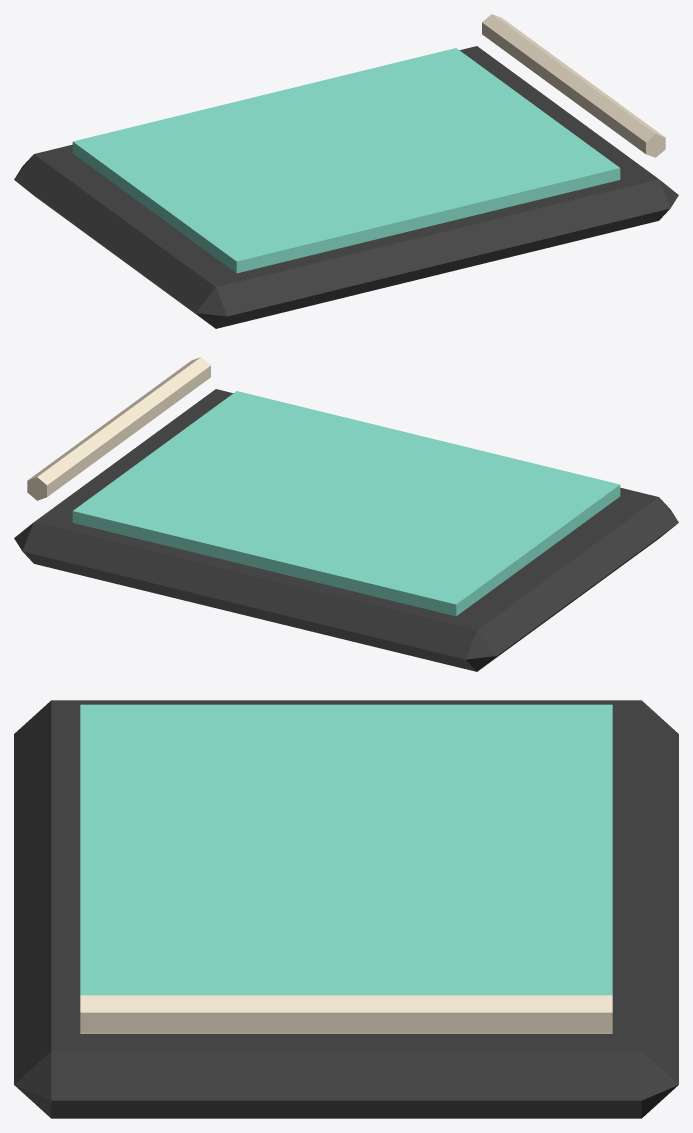
3 renders of one model, top to bottom at view 1: azimuth 30°, elevation 25°; view 2: azimuth 150°, elevation 25°; view 3: azimuth 270°, elevation 25°, orthographic. The views are drawn at different scales.
Parts seen in each view (by area): view 1: Drawing area, Tablet, Pen; view 2: Drawing area, Tablet, Pen; view 3: Drawing area, Tablet, Pen.
Part boxes in pixels (x1,y1,x2,y2): Drawing area: (72, 48, 620, 273); Tablet: (14, 46, 678, 328); Pen: (482, 14, 665, 157); Drawing area: (72, 391, 620, 616); Tablet: (14, 389, 678, 671); Pen: (27, 357, 210, 500); Drawing area: (80, 704, 612, 995); Tablet: (14, 700, 678, 1118); Pen: (80, 995, 612, 1033).
Size of the model in its own units: 0.34 by 0.053 by 0.25.
Materials: 1 (1 with a texture image).
